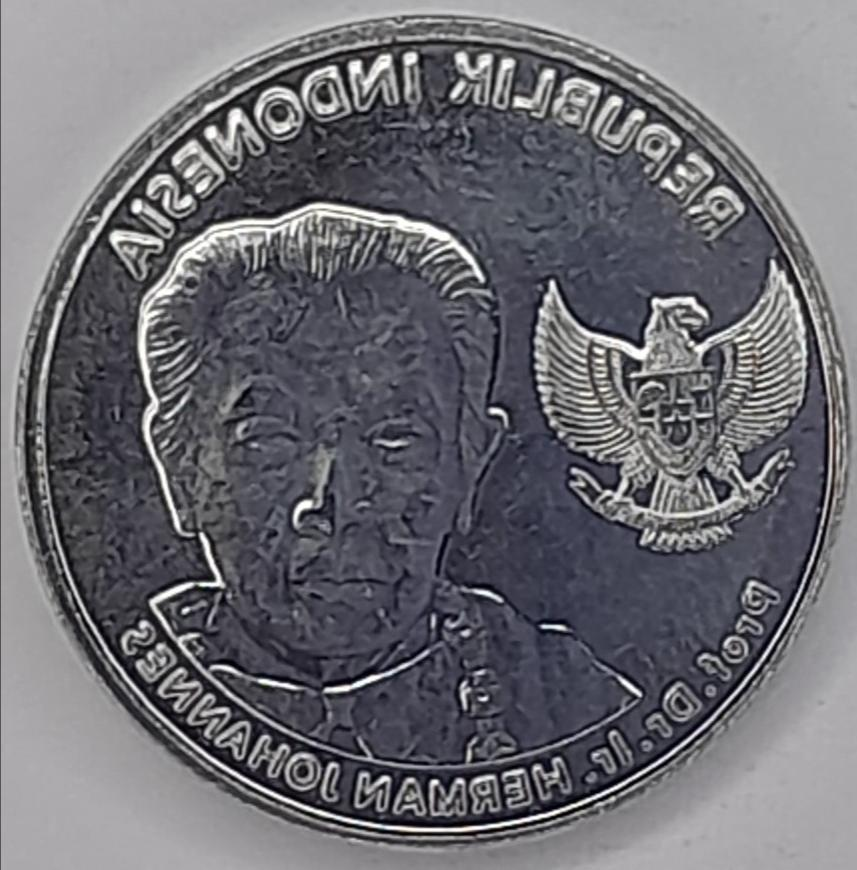coin_100_e2016: (9, 6, 855, 851)
